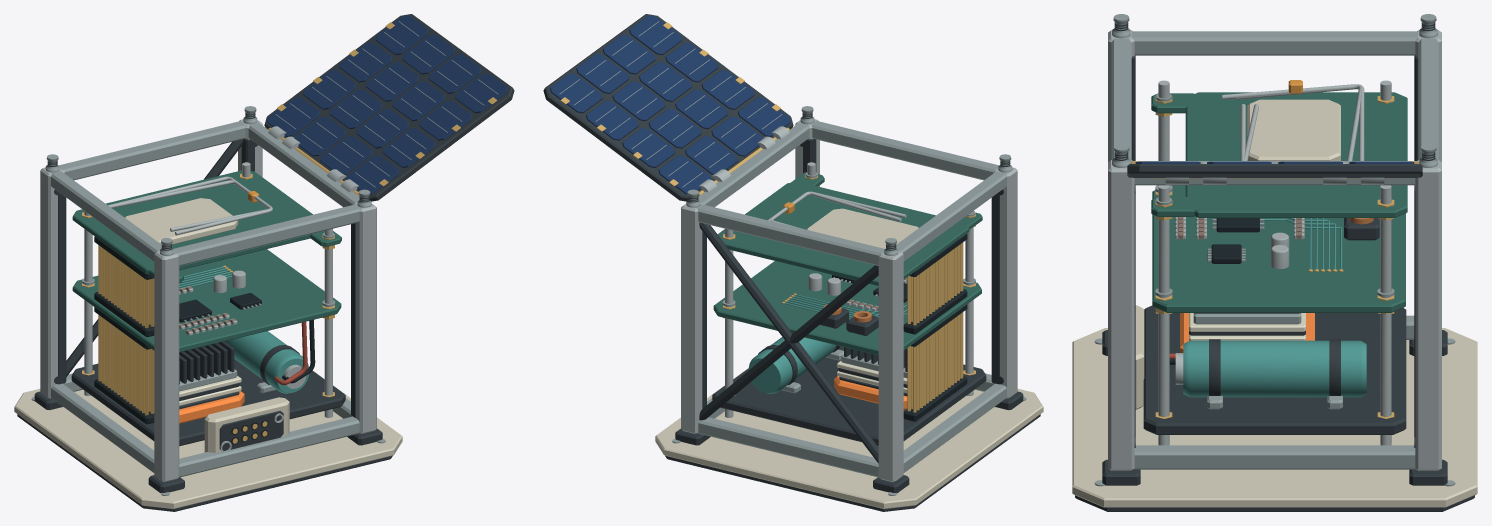
File: p0_cubesat_1u_teg_module.glb
3 views of the same model, side by side, from view 1: azimuth 30°, elevation 25°; view 2: azimuth 150°, elevation 25°; view 3: azimuth 270°, elevation 25° (orthographic). The views are drawn at different scales.
Visible parts, largest first — view 1: Photovoltaic cells, Four corner rails, Perimeter rails, Chamfered plinth, Power and telemetry board, Upper antenna deck, Gold stack-through header, Carrier, Lower thermal stage, Emergency cell, Spacers and tie rods, Cold-side radiator (+11 smaller); view 2: Photovoltaic cells, Perimeter rails, Four corner rails, Chamfered plinth, Upper antenna deck, Power and telemetry board, Gold stack-through header, Lower thermal stage, Carrier, Rear shear braces, Spacers and tie rods, Emergency cell (+8 smaller); view 3: Chamfered plinth, Upper antenna deck, Power and telemetry board, Perimeter rails, Four corner rails, Lower thermal stage, Emergency cell, Spacers and tie rods, Carrier, Folded antenna, Ceramic TEG, Isolators (+6 smaller).
Part boxes in pixels (left/top/right/bottom): Photovoltaic cells: left=267, top=15, right=507, bottom=194; Four corner rails: left=40, top=119, right=376, bottom=482; Perimeter rails: left=51, top=121, right=362, bottom=477; Chamfered plinth: left=14, top=371, right=402, bottom=511; Power and telemetry board: left=72, top=249, right=341, bottom=352; Upper antenna deck: left=72, top=170, right=341, bottom=282; Gold stack-through header: left=94, top=236, right=154, bottom=424; Carrier: left=264, top=14, right=514, bottom=201; Lower thermal stage: left=71, top=359, right=345, bottom=446; Emergency cell: left=225, top=331, right=309, bottom=393; Spacers and tie rods: left=82, top=162, right=334, bottom=417; Cold-side radiator: left=179, top=341, right=237, bottom=391; Photovoltaic cells: left=550, top=15, right=790, bottom=194; Perimeter rails: left=695, top=121, right=1006, bottom=477; Four corner rails: left=681, top=119, right=1017, bottom=482; Chamfered plinth: left=655, top=368, right=1043, bottom=511; Upper antenna deck: left=717, top=172, right=982, bottom=285; Power and telemetry board: left=713, top=261, right=981, bottom=355; Gold stack-through header: left=903, top=234, right=967, bottom=421; Lower thermal stage: left=712, top=346, right=986, bottom=446; Carrier: left=543, top=14, right=793, bottom=201; Rear shear braces: left=699, top=222, right=878, bottom=463; Spacers and tie rods: left=723, top=162, right=975, bottom=417; Emergency cell: left=748, top=337, right=843, bottom=393; Chamfered plinth: left=1072, top=328, right=1477, bottom=511; Upper antenna deck: left=1151, top=80, right=1407, bottom=217; Power and telemetry board: left=1152, top=185, right=1405, bottom=312; Perimeter rails: left=1111, top=31, right=1438, bottom=469; Four corner rails: left=1108, top=30, right=1441, bottom=470; Lower thermal stage: left=1143, top=305, right=1406, bottom=434; Emergency cell: left=1175, top=339, right=1366, bottom=409; Spacers and tie rods: left=1155, top=80, right=1394, bottom=445; Carrier: left=1127, top=164, right=1422, bottom=177; Folded antenna: left=1222, top=84, right=1364, bottom=160; Ceramic TEG: left=1189, top=313, right=1305, bottom=340; Isolators: left=1102, top=330, right=1447, bottom=485.
Size of the model in its own units: 0.1796 by 0.1422 by 0.1215.
